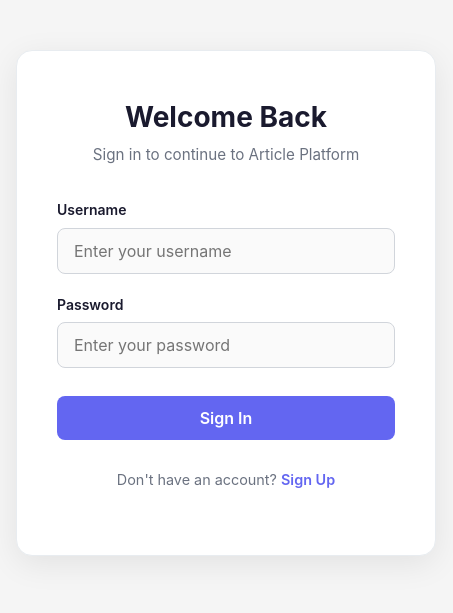
LoginPage › Form Submission › should show error on login failure
Use a valid password that meets validation requirements
Step 1. Type "wronguser" into the field labelled "Username" → [226, 251], box x1=57 y1=228 x2=395 y2=274
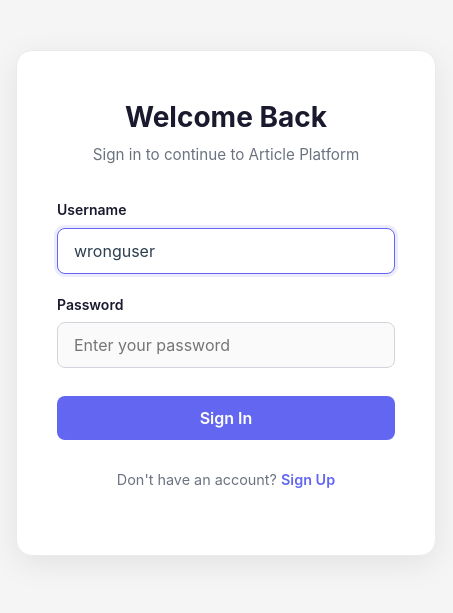
Step 2. Type "WrongPass123" into the password field labelled "Password" → [226, 345], box x1=57 y1=322 x2=395 y2=368
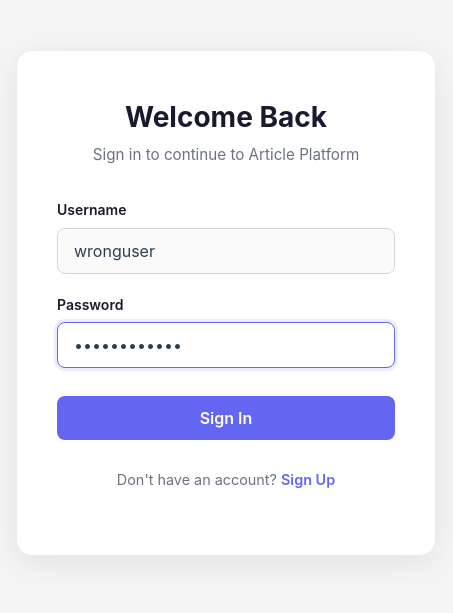
Step 3. Click the button "Sign In" → [226, 418], box x1=57 y1=396 x2=395 y2=440
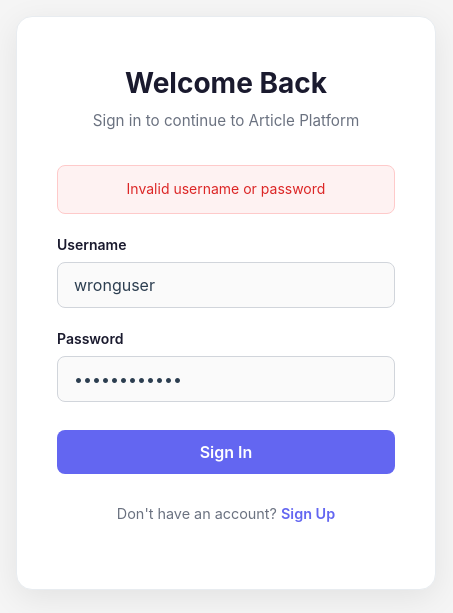
Check: the text "Invalid username or password" is shown, box x1=57 y1=165 x2=395 y2=214
